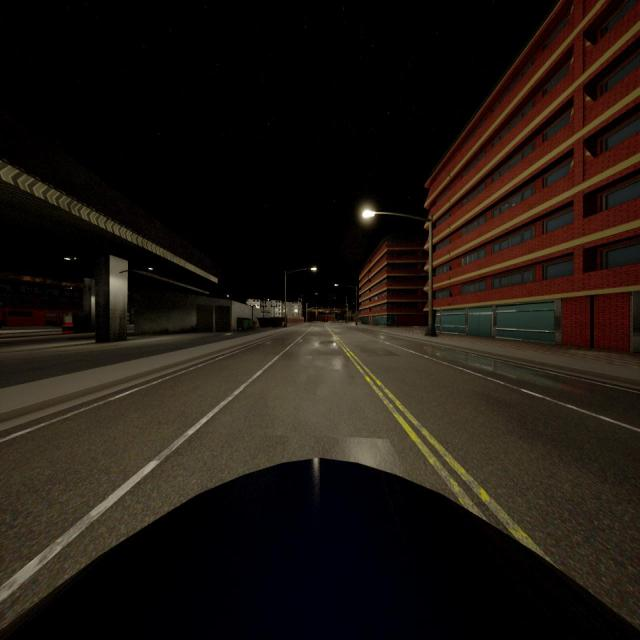Vehicle: (0, 458, 640, 638), (320, 315, 332, 322)
